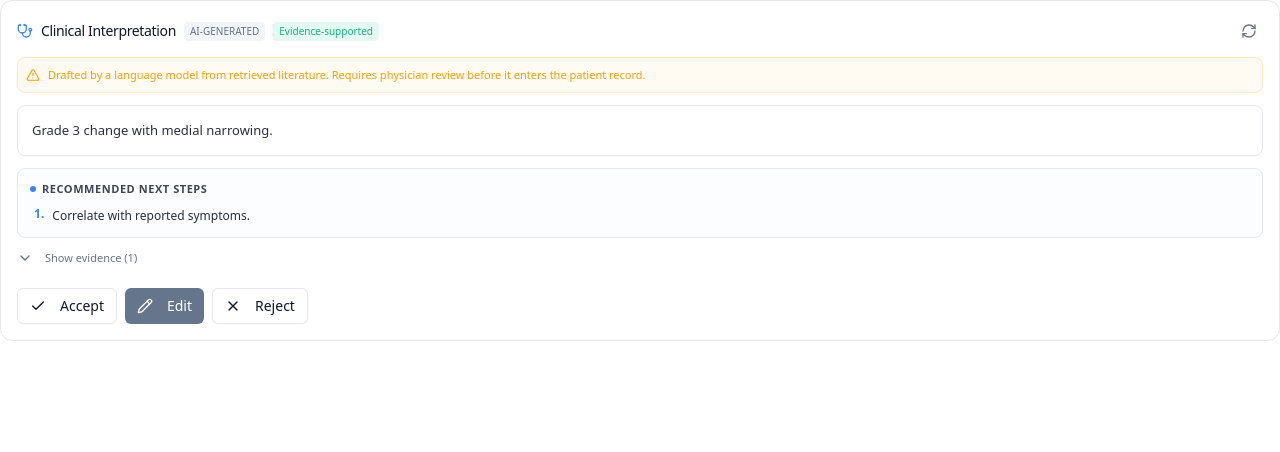
it: ClinicalNotePanel › reveals the raw groundedness figure on expanding the evidence
The image size is (1280, 452).
Click the button "Show evidence (1)" at (77, 258), box [17, 250, 137, 266]
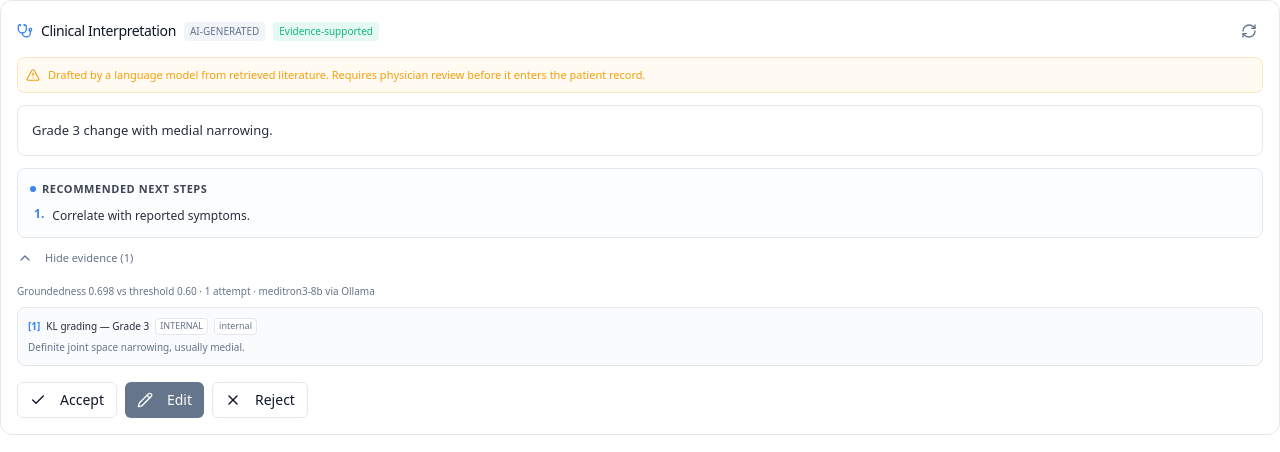
Expected: the element with test id "clinical-note-evidence" is shown, [17, 284, 1263, 366]
Expected: the text "0.698" is shown, [89, 284, 114, 298]
Expected: the text "Definite joint space narrowing, usually medial." is shown, [28, 340, 245, 354]
